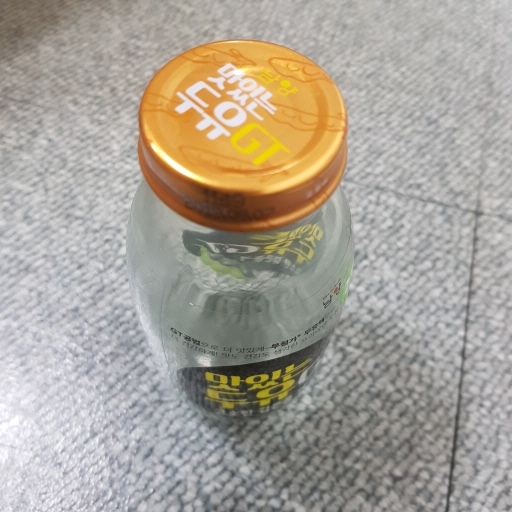Glass_4: (122, 39, 359, 423)
